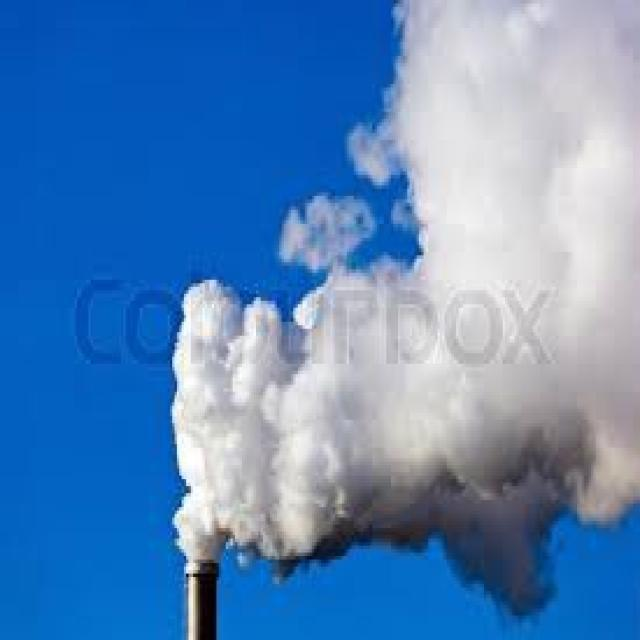Smoke: (170, 0, 640, 620)
